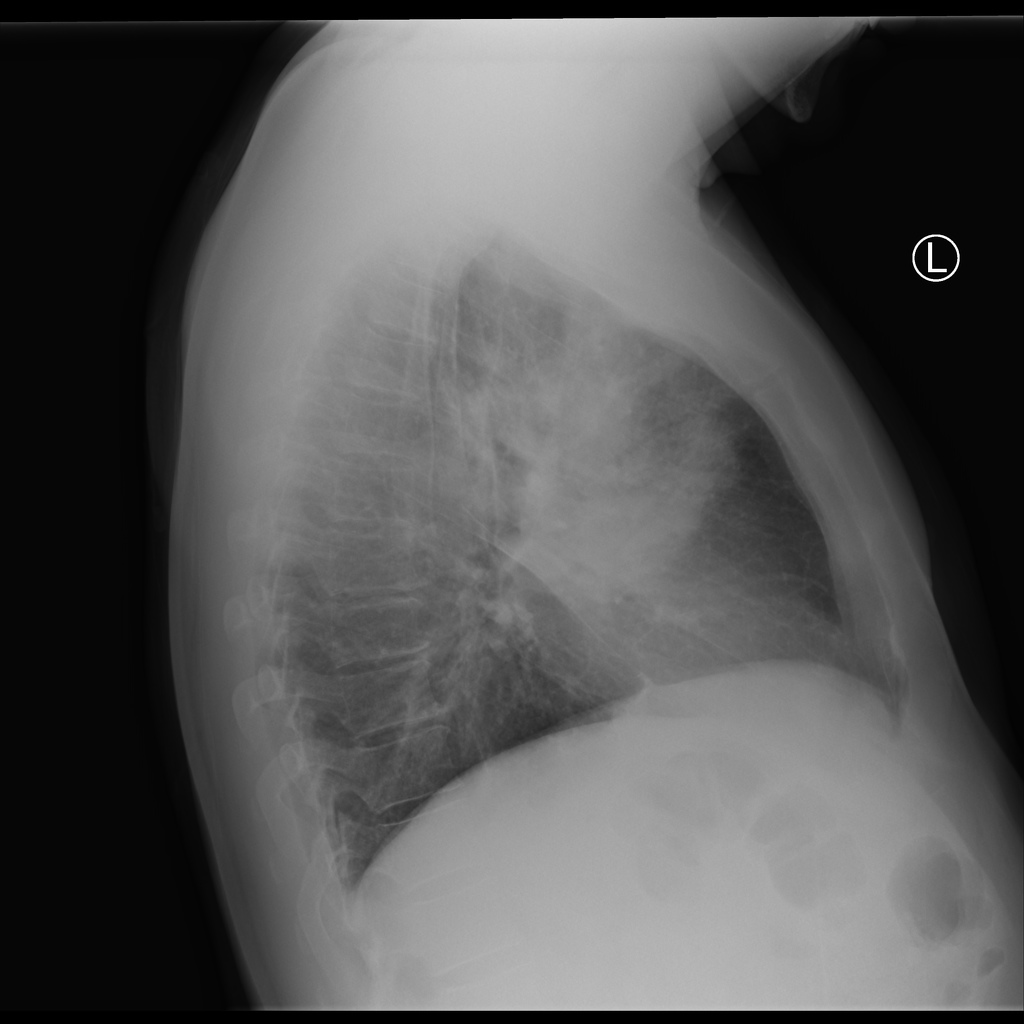cancer: (322, 237, 831, 768)
